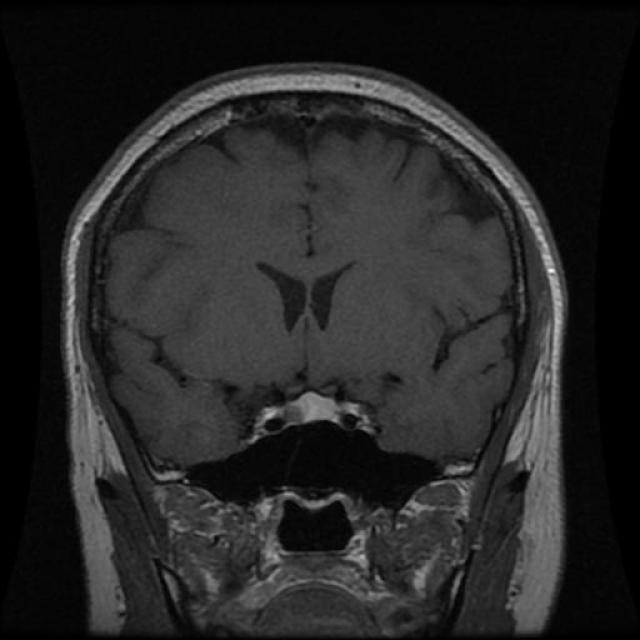pituitary: (244, 386, 382, 446)
